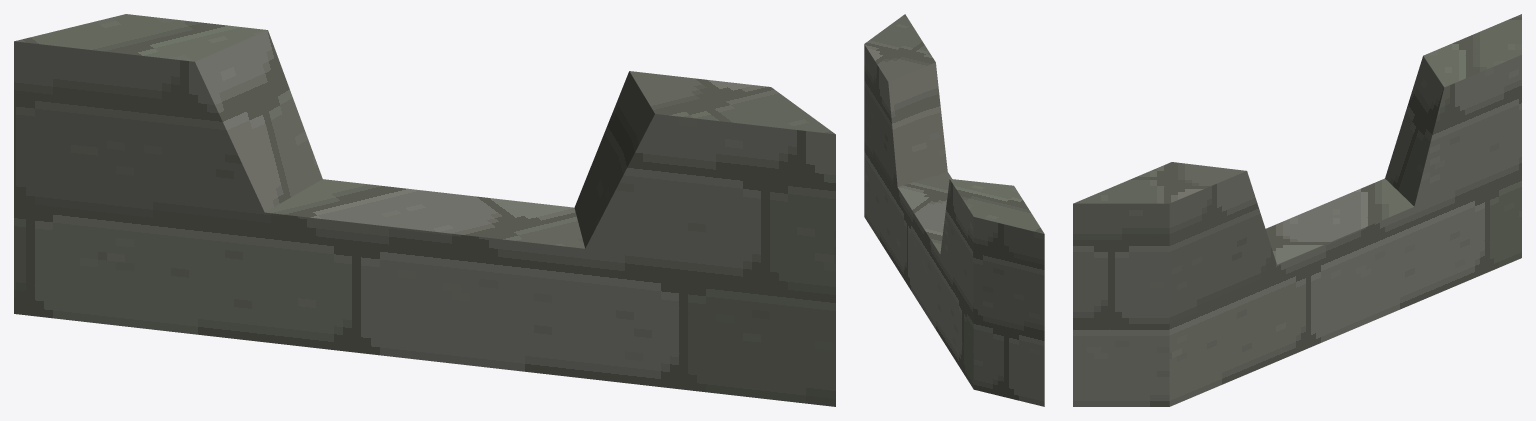
File: diagonal_parapet.glb
3 renders of one model, left to right at view 1: azimuth 30°, elevation 25°; view 2: azimuth 150°, elevation 25°; view 3: azimuth 270°, elevation 25°, orthographic. The views are drawn at different scales.
Visible parts, largest first — view 1: Diagonal parapet; view 2: Diagonal parapet; view 3: Diagonal parapet.
Part boxes in pixels (x1=…): Diagonal parapet: x1=14, y1=14, x2=835, y2=406; Diagonal parapet: x1=864, y1=14, x2=1044, y2=406; Diagonal parapet: x1=1073, y1=14, x2=1521, y2=406.
Bounding box in the file's own units: 1 × 0.5 × 1.
Materials: 1 (1 with a texture image).
